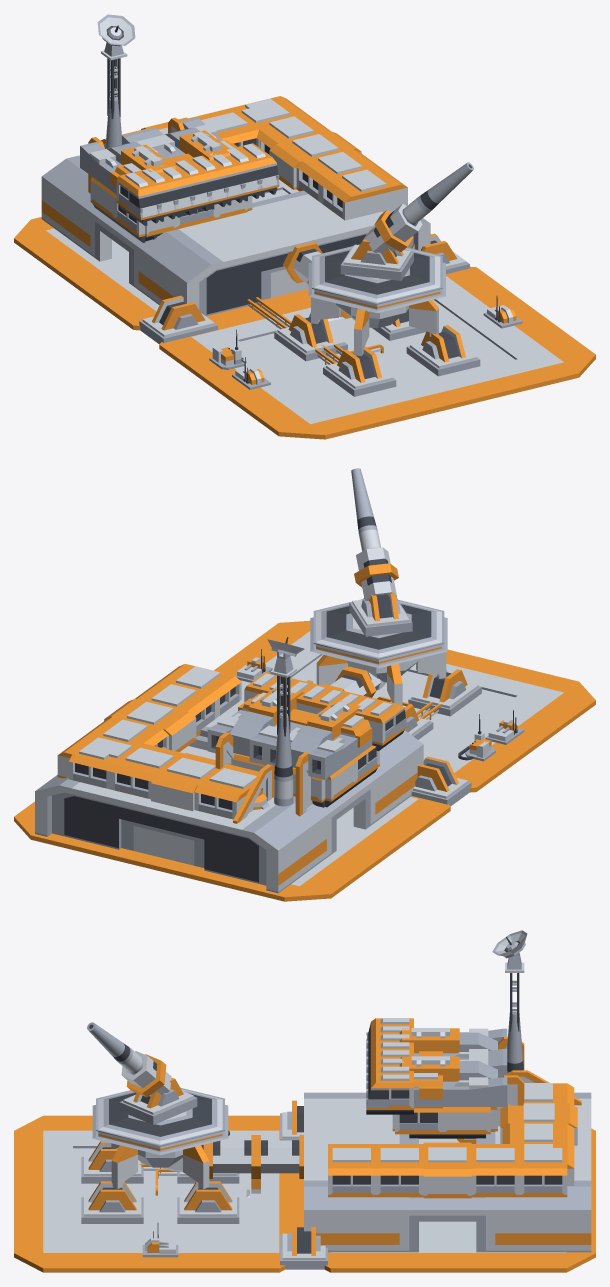
File: defense.glb
3 renders of one model, top to bottom at view 1: azimuth 30°, elevation 25°; view 2: azimuth 150°, elevation 25°; view 3: azimuth 270°, elevation 25°, orthographic.
Visible parts, largest first — view 1: mergedBlocks(Clone); view 2: mergedBlocks(Clone); view 3: mergedBlocks(Clone).
Boxes of the visible parts, <box> form: mergedBlocks(Clone): <box>14,14,595,439</box>; mergedBlocks(Clone): <box>14,468,595,901</box>; mergedBlocks(Clone): <box>14,930,595,1272</box>.
Bounding box in the file's own units: 7.56 × 5.11 × 12.16.
Materials: 1 (1 with a texture image).
